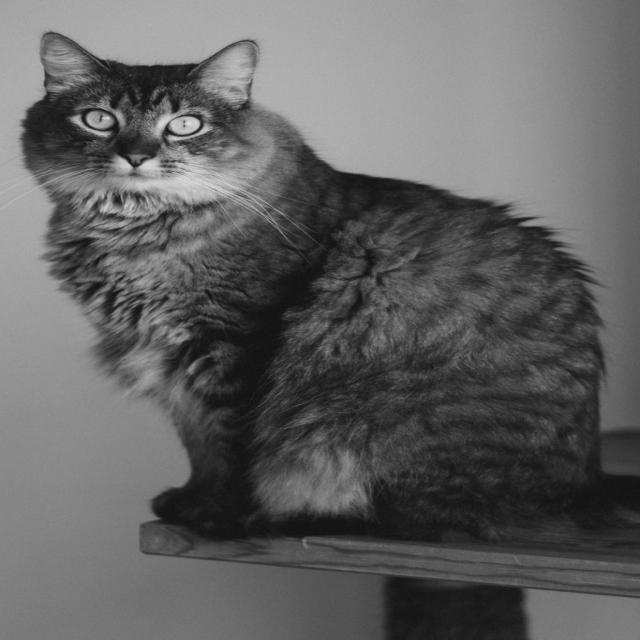Cat: (0, 29, 638, 537)
